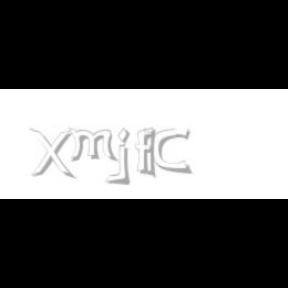C: (154, 128, 190, 174)
X: (29, 128, 73, 180)
f: (135, 128, 159, 174)
j: (116, 128, 144, 186)
l: (144, 128, 160, 180)
m: (67, 128, 119, 162)
